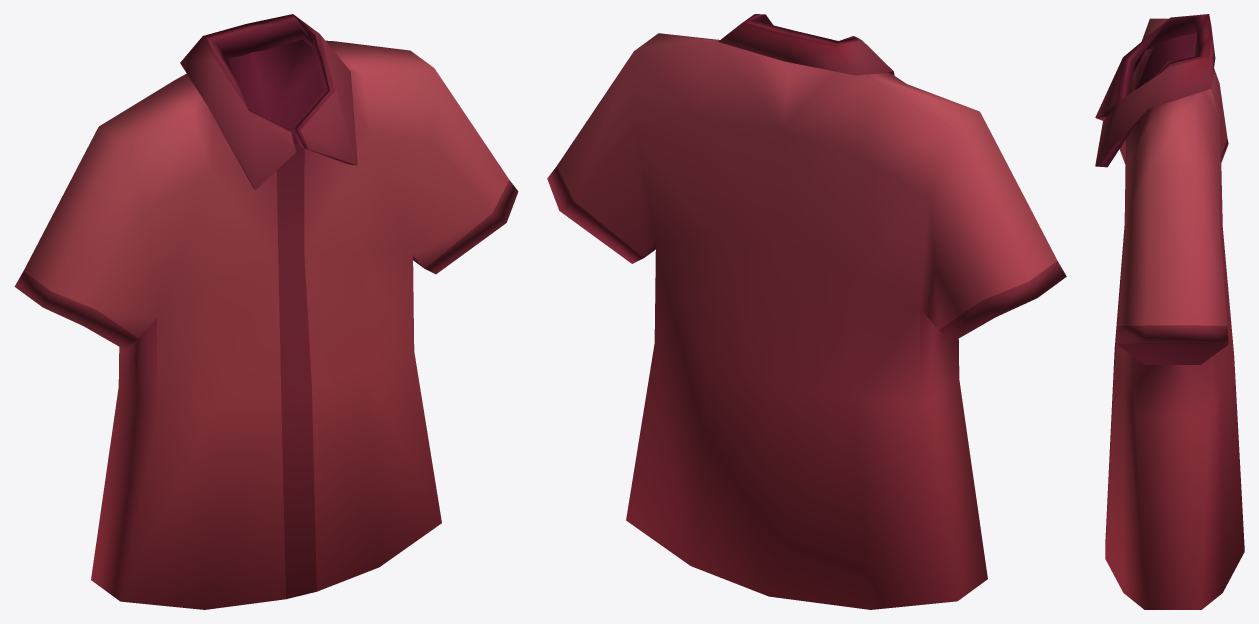
Rendered from human-clothing-shirt_v2.glb.
3 renders of one model, left to right at view 1: azimuth 30°, elevation 25°; view 2: azimuth 150°, elevation 25°; view 3: azimuth 270°, elevation 25°, orthographic. The views are drawn at different scales.
Parts seen in each view (by area): view 1: Shirt_v2; view 2: Shirt_v2; view 3: Shirt_v2.
Boxes of the visible parts, box(x1,y1,x2,y2) form: Shirt_v2: box(14, 14, 518, 609); Shirt_v2: box(547, 14, 1066, 609); Shirt_v2: box(1095, 14, 1244, 609).
Bounding box in the file's own units: 0.6555 × 0.7 × 0.1839.
